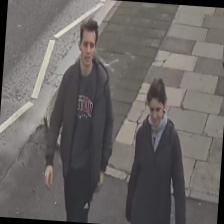person: (40, 16, 120, 224), (123, 76, 196, 224)
